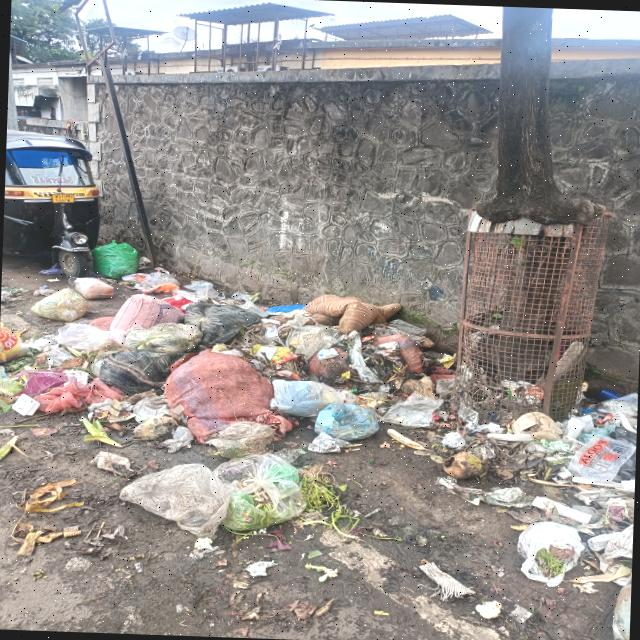garbage: (0, 269, 429, 530), (488, 382, 638, 598)
